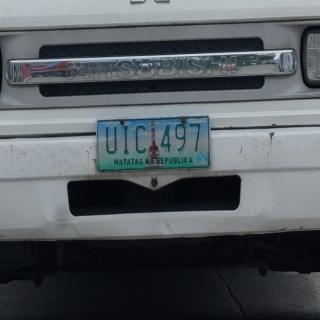license: (98, 117, 212, 172)
